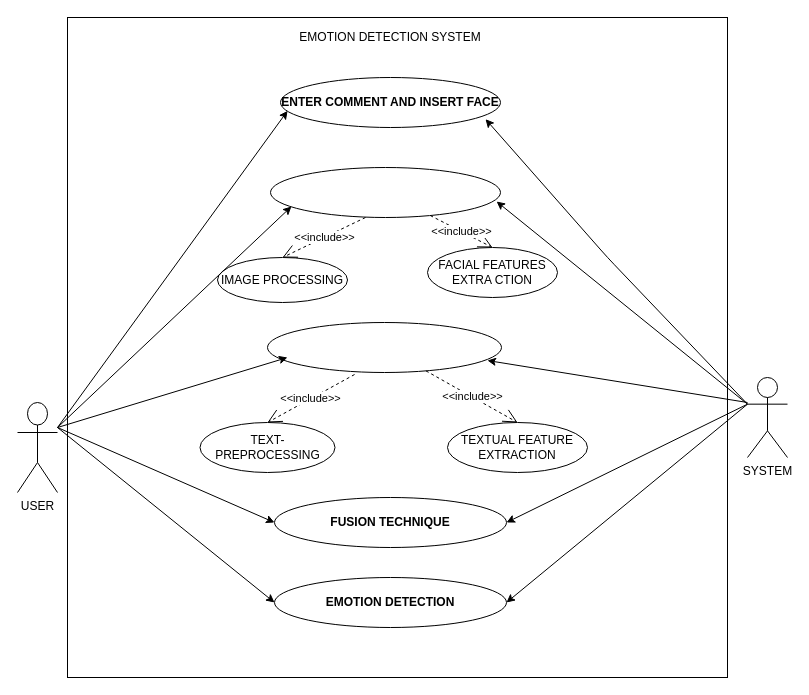
The diagram is 809 pixels wide and 695 high, and some of its shapes have lost their labels. Each missing label, with the centre of its shape:
"FACE ANALYSIS" belongs at point (385, 192).
"TEXT ANALYSIS" belongs at point (384, 347).
